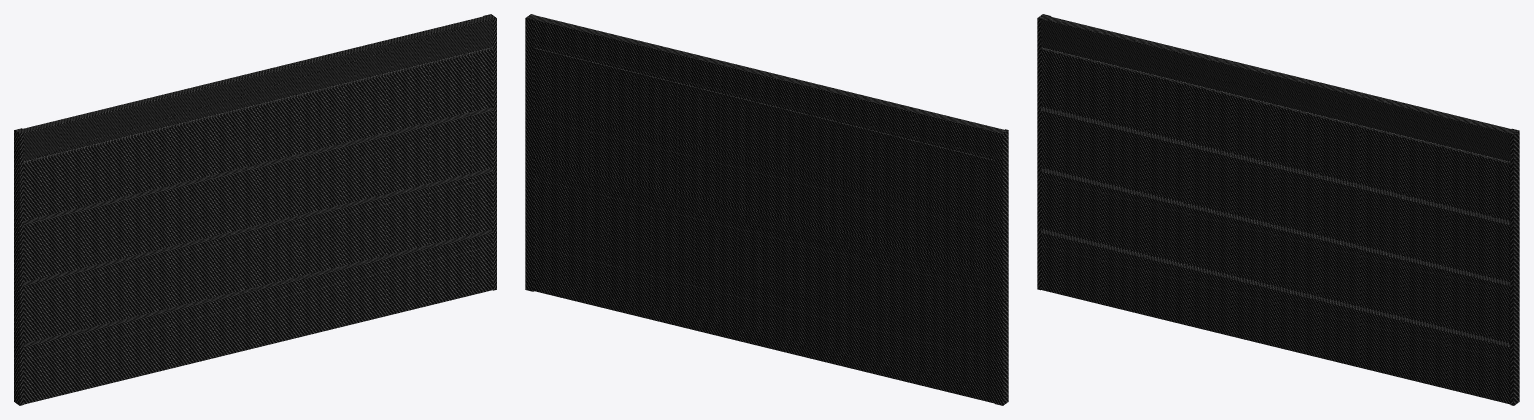
Rendered from backSlashPro40.glb.
3 views of the same model, side by side, from view 1: azimuth 30°, elevation 25°; view 2: azimuth 150°, elevation 25°; view 3: azimuth 330°, elevation 25° (orthographic).
Parts seen in each view (by area): view 1: backsplashBlackCarbonFiber40; view 2: backsplashBlackCarbonFiber40; view 3: backsplashBlackCarbonFiber40.
Boxes of the visible parts, bbox=[...] form: backsplashBlackCarbonFiber40: bbox=[14, 14, 496, 405]; backsplashBlackCarbonFiber40: bbox=[525, 14, 1008, 405]; backsplashBlackCarbonFiber40: bbox=[1037, 14, 1519, 405].
Bounding box in the file's own units: 1.02 × 0.5532 × 0.0215.
3 materials, 2 textured.
